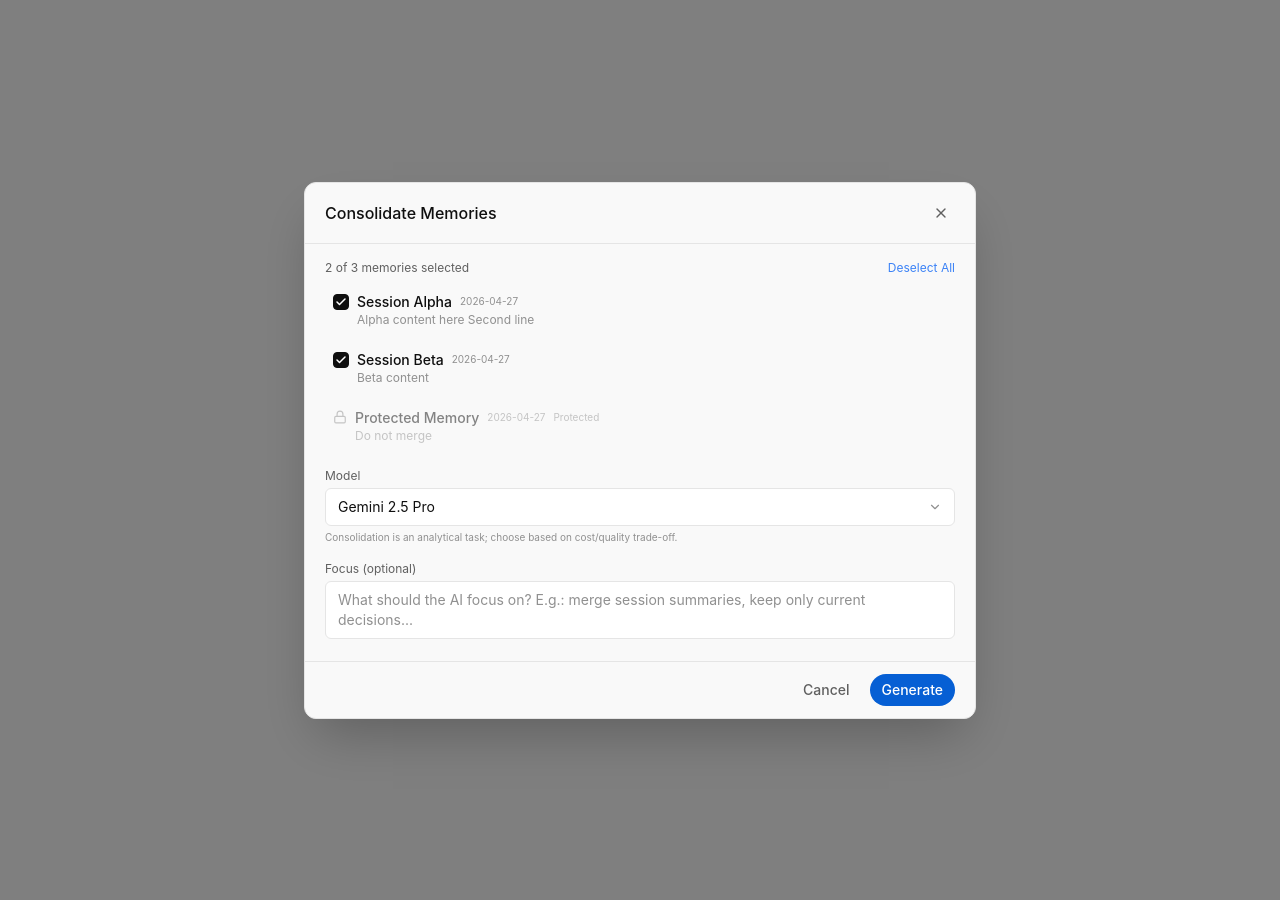
Test case: ConsolidationModal — Preview/Save/Error › loading state shows spinner and model name
Click the button "Generate" at point(912, 690), box [870,674,955,706]
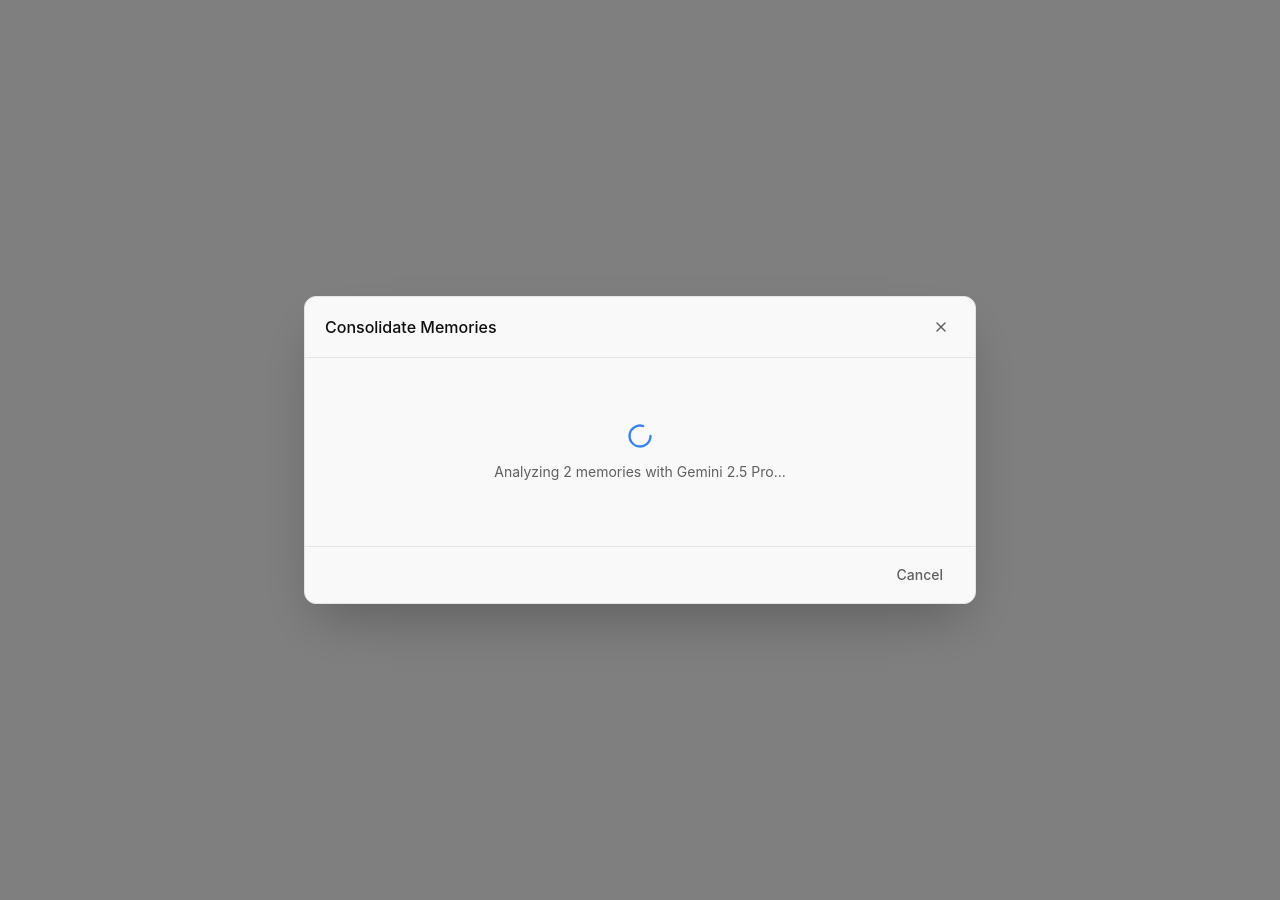
Check: the text "Analyzing 2 memories with Gemini 2.5 Pro..." is shown, box [494,462,786,482]
